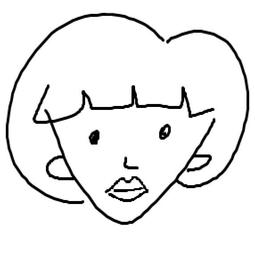cupid_mouth: (105, 174, 149, 204)
ear: (43, 155, 80, 186), (187, 151, 215, 172)
pointy_nose: (116, 152, 148, 172)
small_eye: (85, 127, 110, 152), (156, 120, 175, 145)
